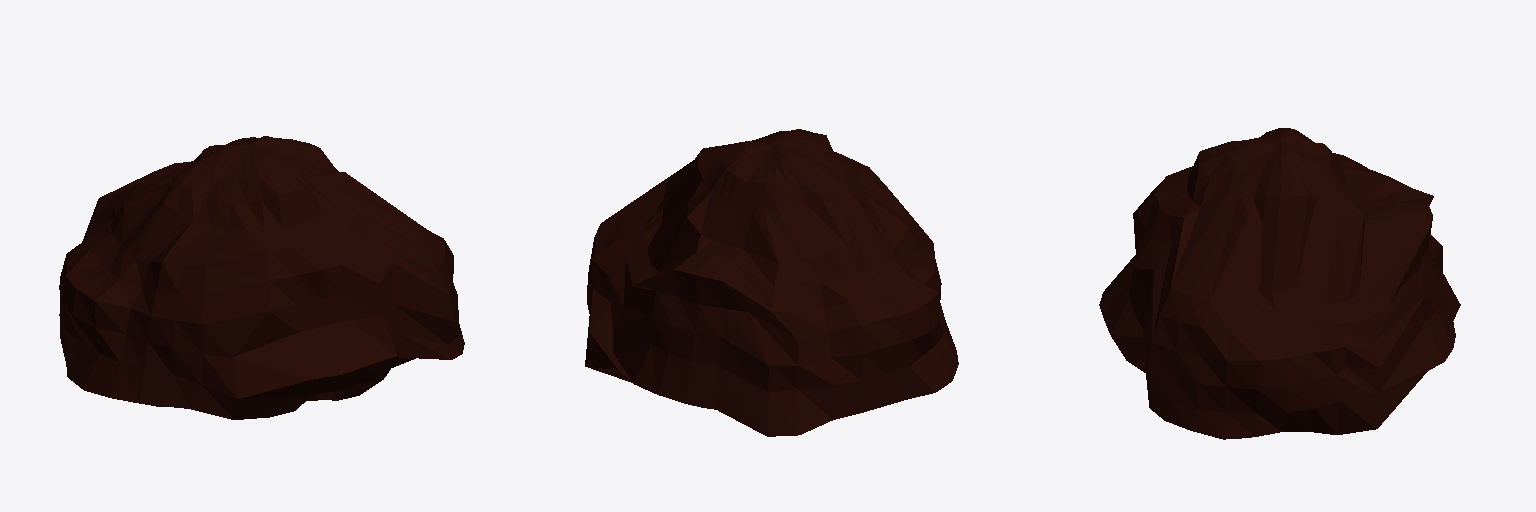
Rendered from rockv1.obj.
The picture shows the model from 3 angles: view 1: azimuth 30°, elevation 25°; view 2: azimuth 150°, elevation 25°; view 3: azimuth 270°, elevation 25°; orthographic projection.
Parts seen in each view (by area): view 1: Sphere; view 2: Sphere; view 3: Sphere.
Part boxes in pixels (left/top/right/bottom): Sphere: left=59, top=136, right=464, bottom=419; Sphere: left=585, top=129, right=958, bottom=436; Sphere: left=1099, top=128, right=1460, bottom=439.
Size of the model in its own units: 2.86 by 1.73 by 2.51.